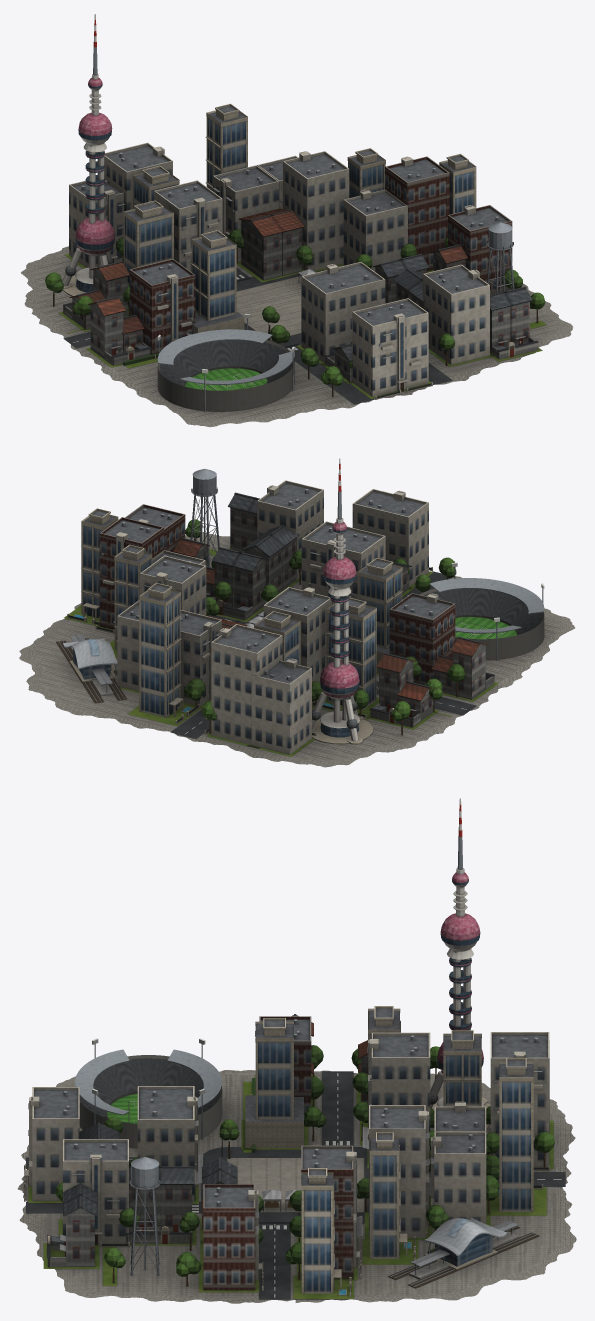
File: modern-town-big-a-sinic.glb
The picture shows the model from 3 angles, top to bottom: view 1: azimuth 30°, elevation 25°; view 2: azimuth 150°, elevation 25°; view 3: azimuth 270°, elevation 25°; orthographic projection. The views are drawn at different scales.
Visible parts, largest first — view 1: LOD0; view 2: LOD0; view 3: LOD0.
Part boxes in pixels (x1,y1,x2,y2): LOD0: [21, 14, 572, 427]; LOD0: [19, 458, 574, 767]; LOD0: [17, 798, 576, 1303].
Size of what is drawn, in the model's own units: 8.04 by 5.03 by 8.09.
3 materials, 3 textured.
